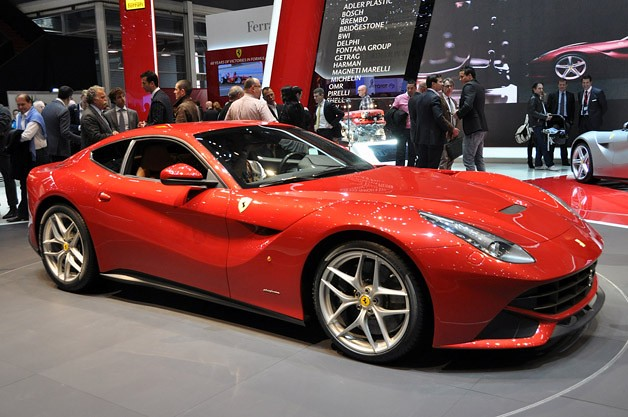car: (22, 116, 608, 362)
